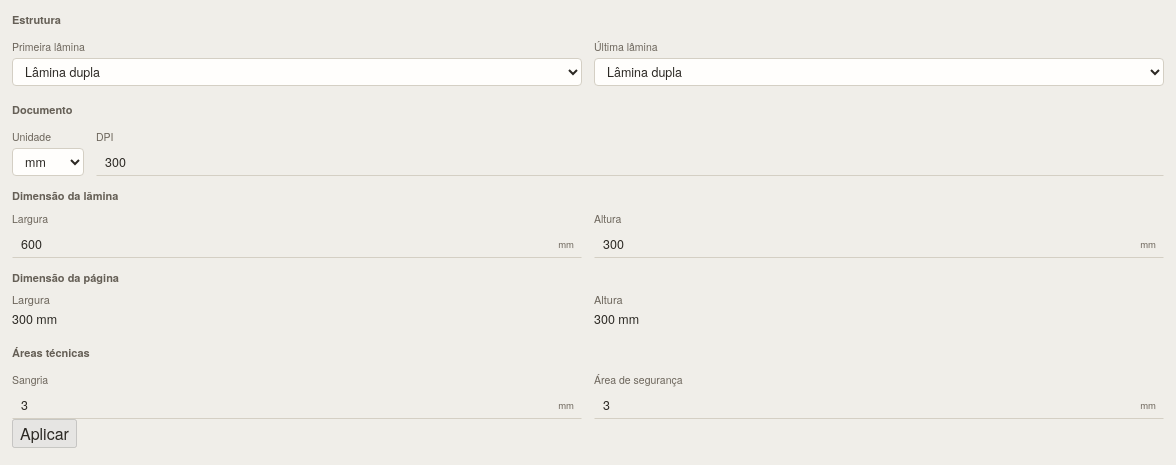
Test: presents raster limits in the pending Unit instead of pixels
Select "cm" in the dropdown labelled "Unidade" at (48, 162), box 12,148 -> 84,176
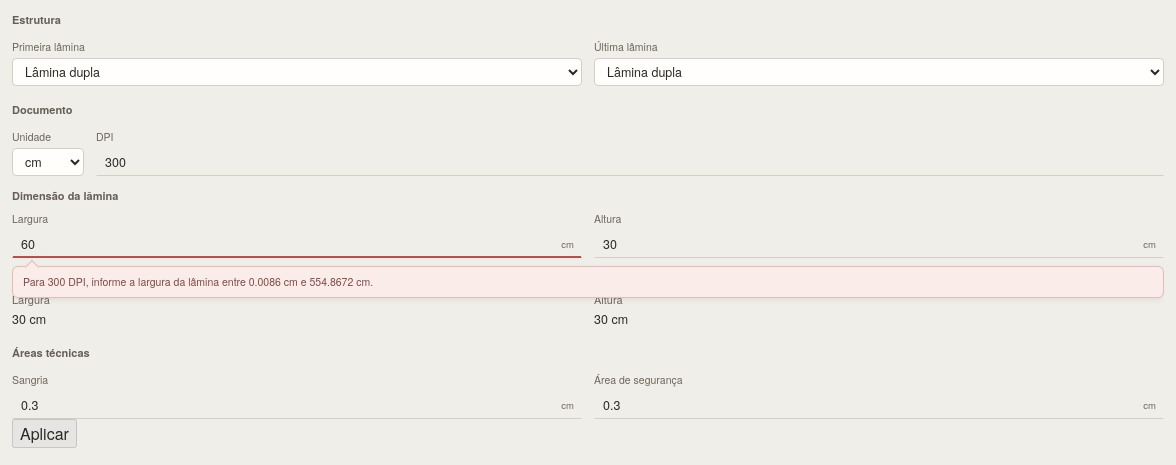
expect the tooltip does not show "pixels?": met, box 12,266 -> 1164,298
expect the tooltip reads "Para 300 DPI, informe a largura da lâmina entre 0.0086 cm e 554.8672 cm.": met, box 23,274 -> 373,289
